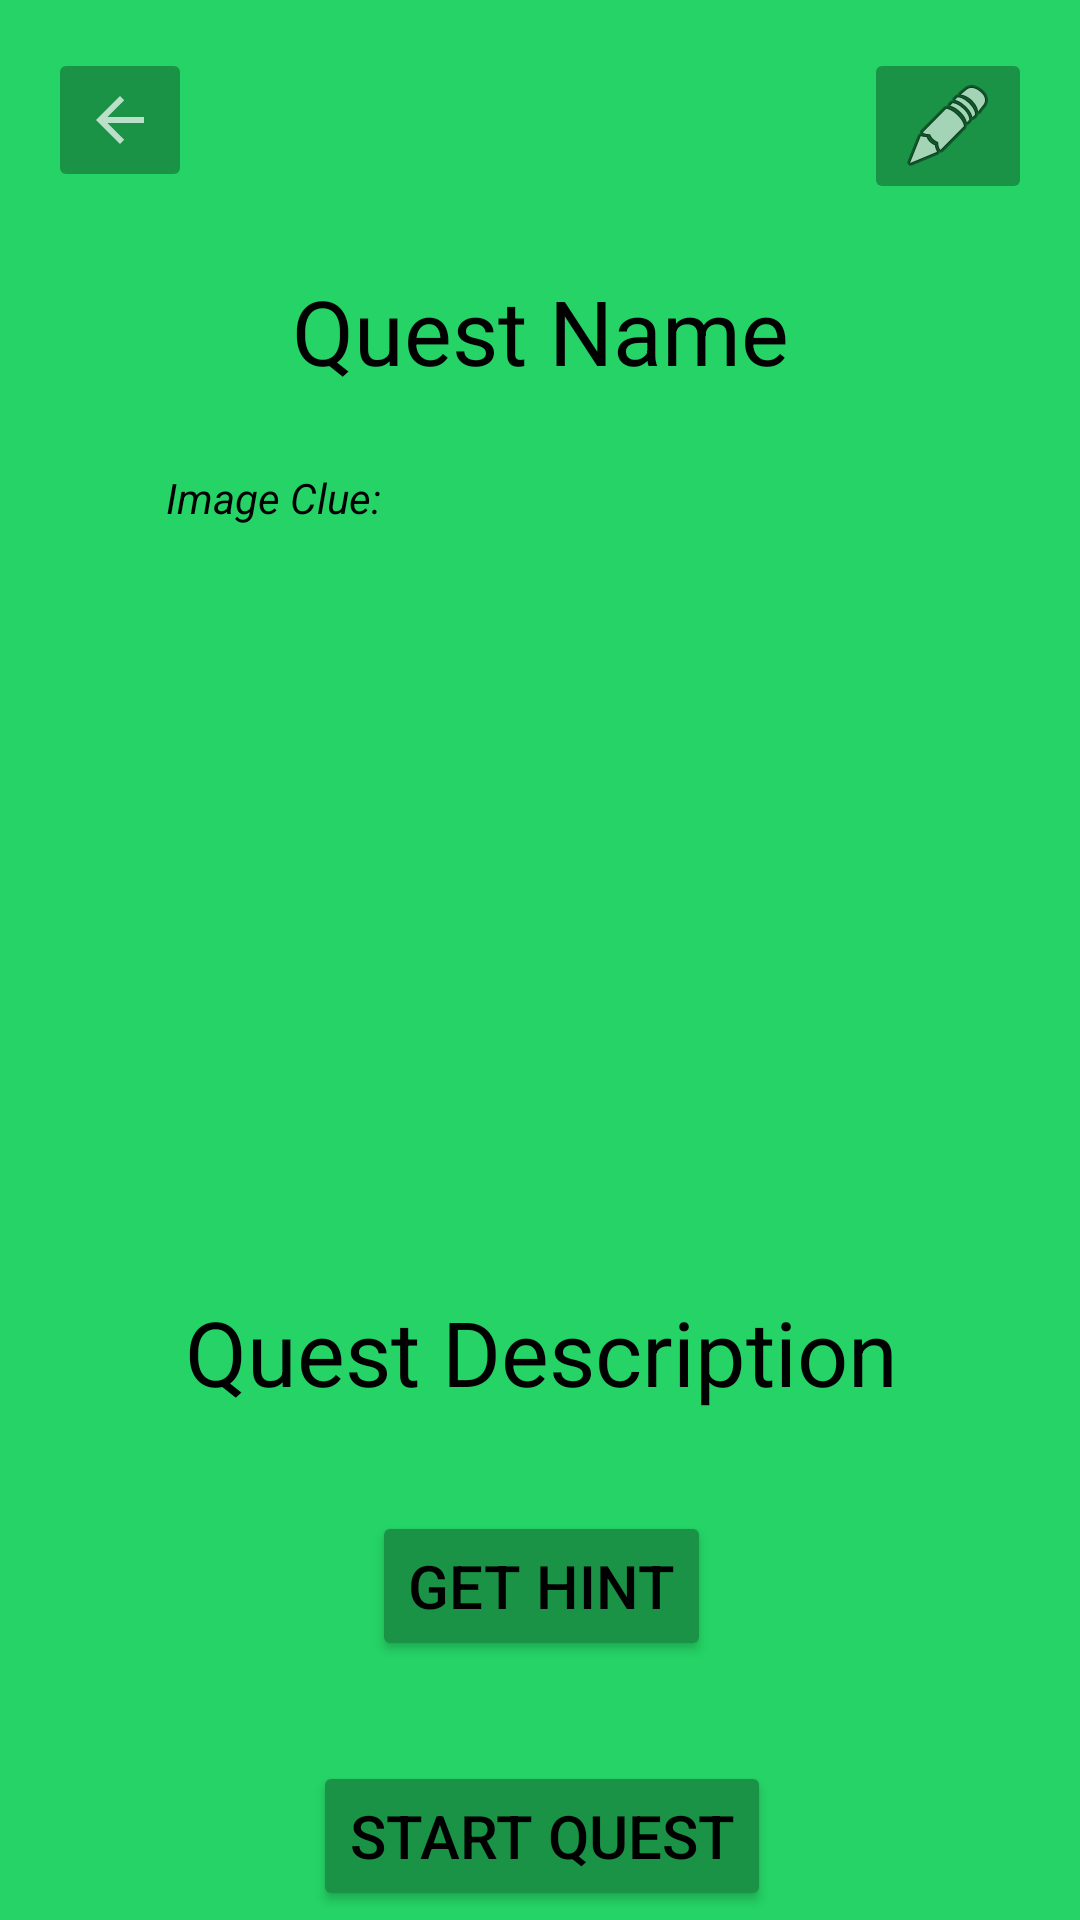

Icon click points for this 1080w x 1920h phone screenshot, format point (x, y):
edit: point (948, 126)
